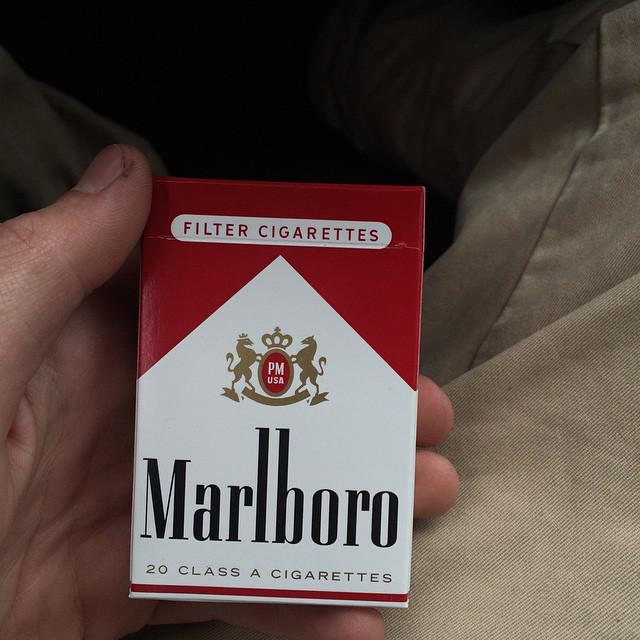marlboro_red: (136, 188, 413, 601)
